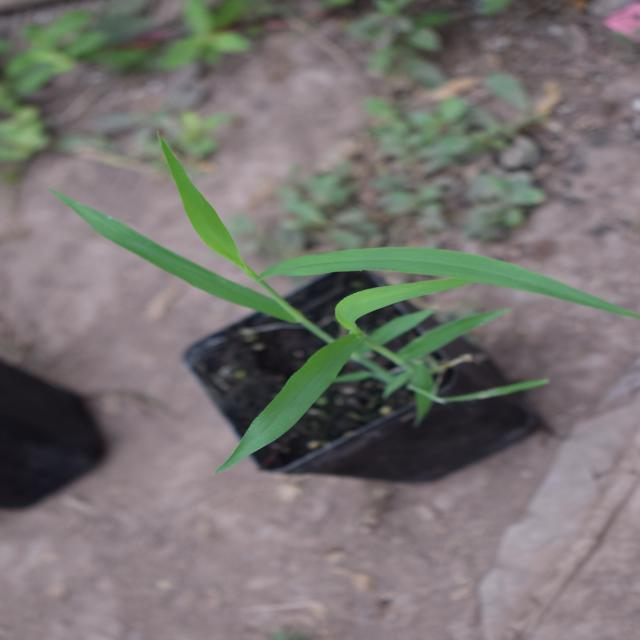crabgrass: (135, 92, 512, 570)
